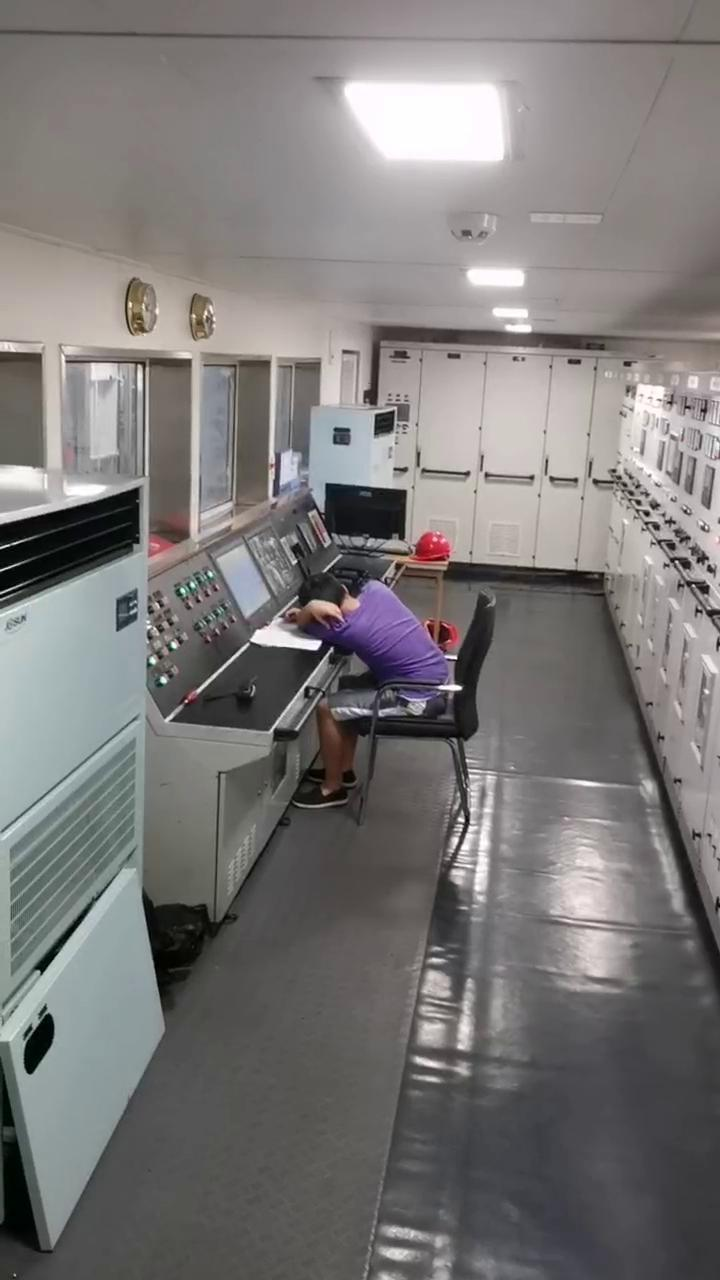sleep: (277, 572, 461, 709)
